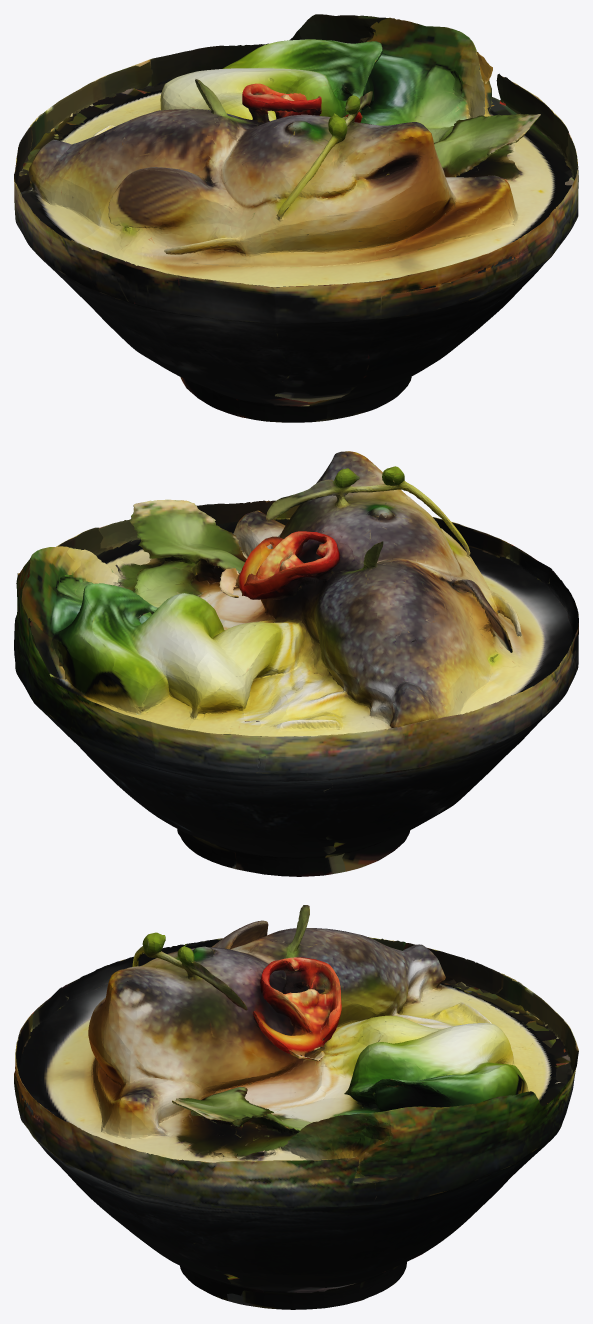
The model's file is fishheadsoup.fbx.
The picture shows the model from 3 angles, top to bottom: view 1: azimuth 30°, elevation 25°; view 2: azimuth 150°, elevation 25°; view 3: azimuth 270°, elevation 25°; orthographic projection.
Visible parts, largest first — view 1: world; view 2: world; view 3: world.
Boxes of the visible parts, x1,y1,x2,y2 form: world: (14, 14, 578, 422); world: (14, 451, 578, 876); world: (14, 905, 578, 1309).
Bounding box in the file's own units: 88.87 × 54.61 × 88.75.
